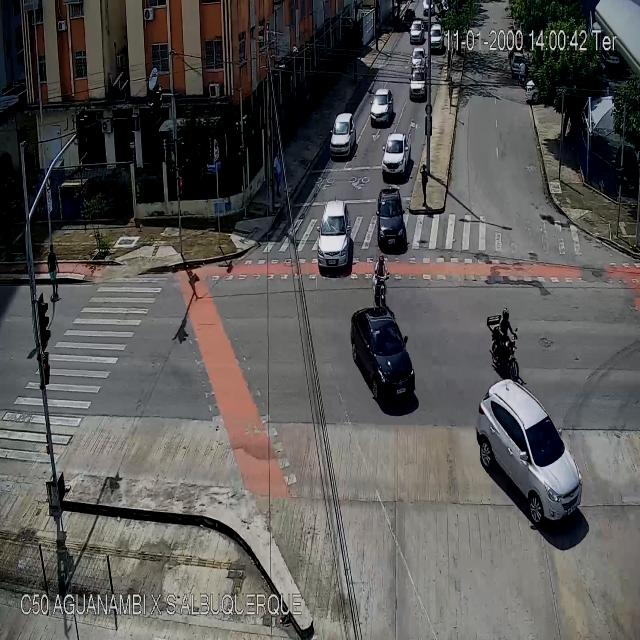Car: (478, 377, 583, 527), (352, 306, 415, 402), (318, 200, 352, 274), (376, 188, 407, 249), (330, 112, 355, 156), (383, 132, 409, 170), (370, 88, 394, 124), (409, 64, 427, 98), (429, 25, 443, 51), (510, 54, 524, 76), (409, 21, 423, 42), (412, 48, 426, 66), (404, 8, 416, 26)
Motorcycle: (491, 308, 521, 382), (373, 253, 388, 305), (518, 58, 526, 84)
